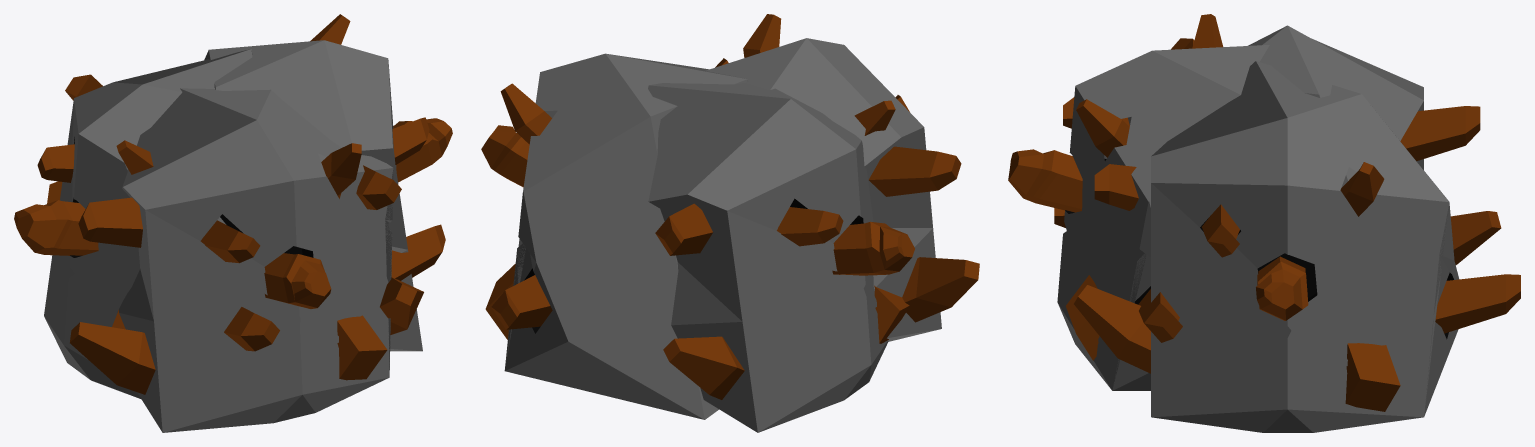
File: CooperMine.fbx
3 renders of one model, left to right at view 1: azimuth 30°, elevation 25°; view 2: azimuth 150°, elevation 25°; view 3: azimuth 270°, elevation 25°, orthographic. The views are drawn at different scales.
Parts seen in each view (by area): view 1: IronMine; view 2: IronMine; view 3: IronMine.
Boxes of the visible parts, <box> form: IronMine: <box>14,14,452,432</box>; IronMine: <box>481,14,979,432</box>; IronMine: <box>1008,14,1520,432</box>.
Bounding box in the file's own units: 826 × 819 × 498.
